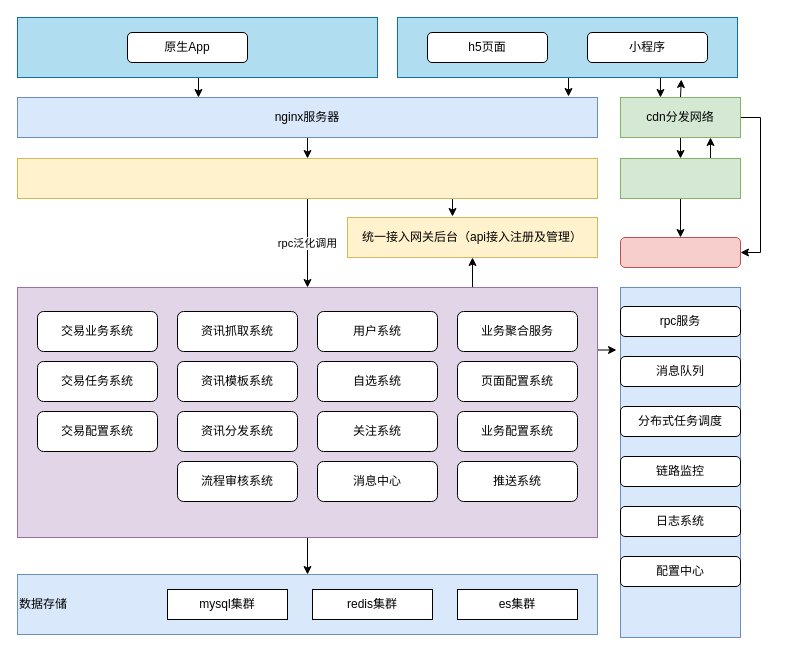
The diagram is 786 pixels wide and 655 high, and some of its shapes have lost their labels. Here are the shapes that lost their labels. From the top down, the centre of each, then its label:
At pixel 307 178: "统一接入网关（API路由，熔断降级sentinel，统一登录，加解密）".
At pixel 680 178: "静态资源服务".
At pixel 680 252: "云存储".
